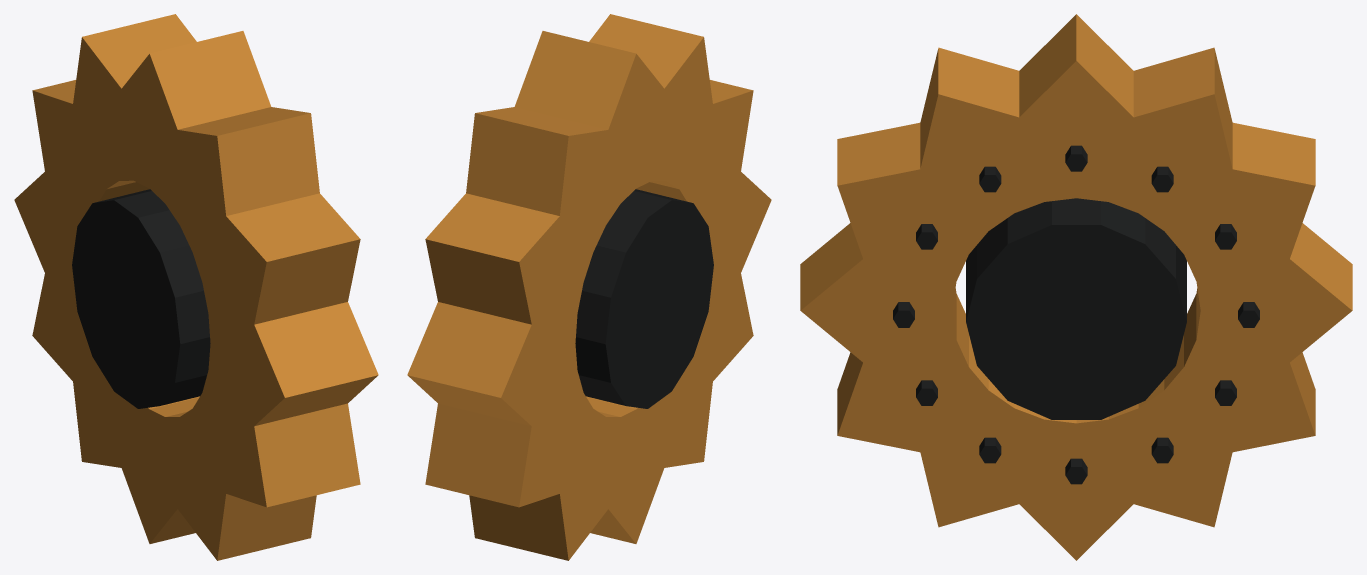
The model's file is PART_CogShoulderJoint_Blockout.obj.
3 renders of one model, left to right at view 1: azimuth 30°, elevation 25°; view 2: azimuth 150°, elevation 25°; view 3: azimuth 270°, elevation 25°, orthographic.
Parts seen in each view (by area): view 1: cog_shoulder_joint, iron_axle_socket; view 2: cog_shoulder_joint, iron_axle_socket; view 3: cog_shoulder_joint, iron_axle_socket, cog_shoulder_joint_rivet.
Part boxes in pixels (bbox=[...]): cog_shoulder_joint: bbox=[14, 14, 378, 560]; iron_axle_socket: bbox=[72, 189, 210, 408]; cog_shoulder_joint: bbox=[407, 14, 771, 560]; iron_axle_socket: bbox=[575, 189, 713, 408]; cog_shoulder_joint: bbox=[800, 14, 1352, 560]; iron_axle_socket: bbox=[966, 198, 1186, 419]; cog_shoulder_joint_rivet: bbox=[893, 145, 1259, 484].
Size of the model in its own units: 0.24 by 0.8 by 0.8.
